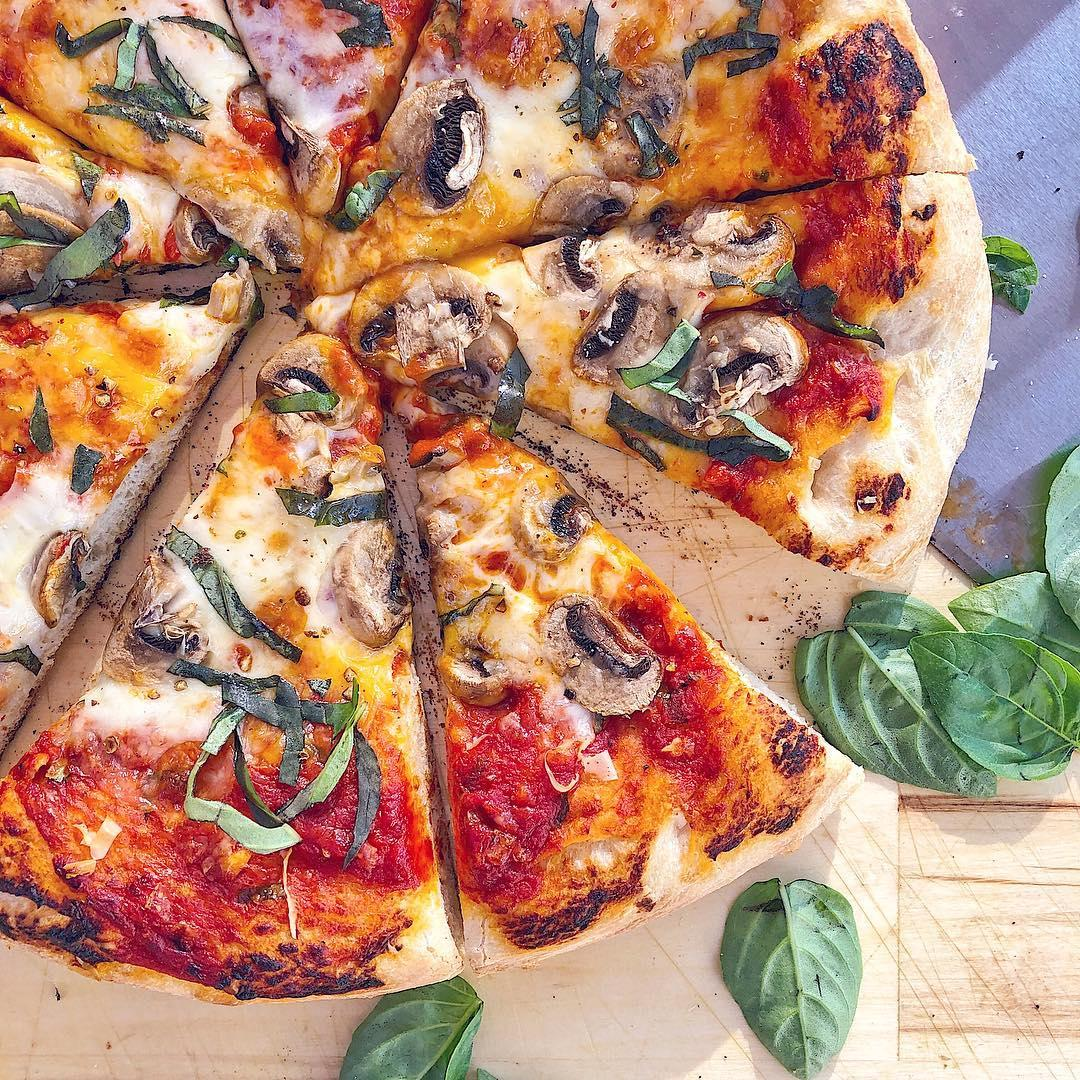Basil: (177, 656, 381, 861), (821, 597, 994, 797), (914, 628, 1080, 777), (723, 877, 870, 1011), (341, 977, 485, 1080), (69, 17, 202, 126), (1045, 448, 1080, 628), (948, 579, 1046, 628)
Mushroom: (557, 21, 714, 169), (537, 575, 670, 733), (347, 249, 498, 370), (373, 73, 485, 196), (687, 317, 804, 433), (659, 209, 800, 302), (559, 258, 677, 367), (333, 518, 413, 655), (537, 179, 632, 292), (259, 345, 354, 445), (274, 114, 345, 208), (29, 532, 95, 626), (525, 488, 587, 553), (438, 659, 508, 709)
Pizza: (1, 0, 1002, 1009)
